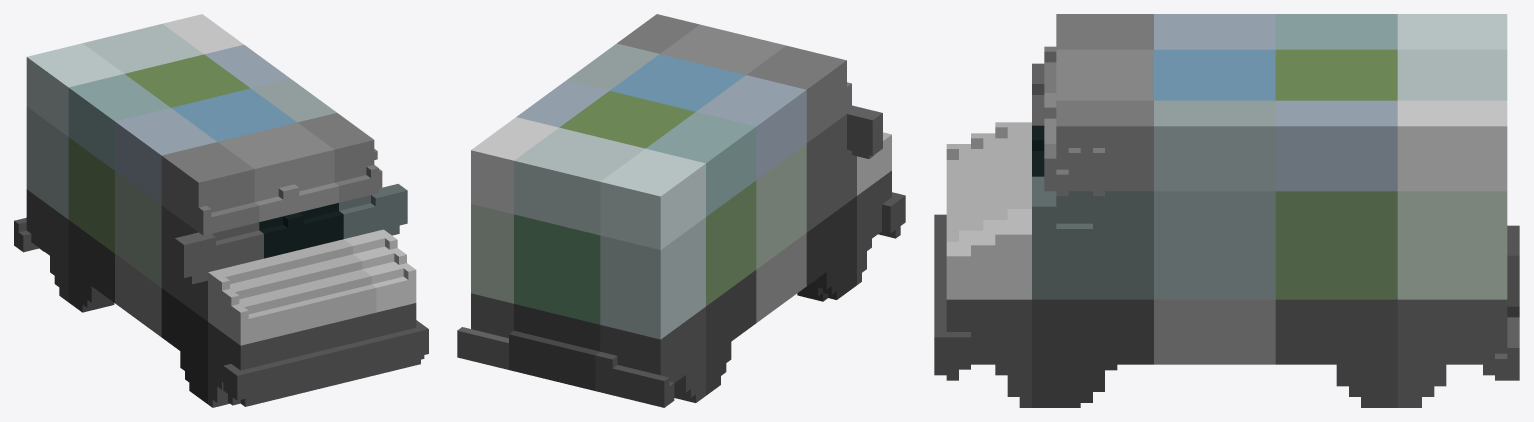
File: CesiumMilkTruck_256B_vox.glb
3 views of the same model, side by side, from view 1: azimuth 30°, elevation 25°; view 2: azimuth 150°, elevation 25°; view 3: azimuth 270°, elevation 25° (orthographic). The views are drawn at different scales.
Size of the model in its own units: 1.16 by 1.06 by 2.
